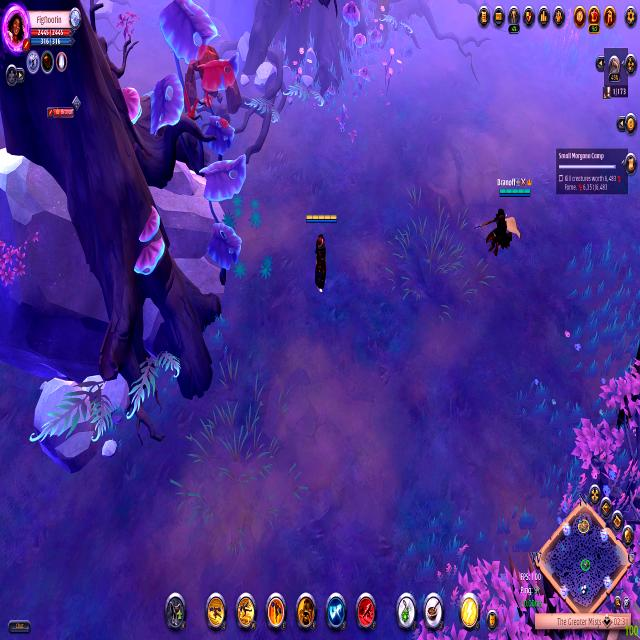red: (472, 175, 536, 261), (301, 206, 342, 304)
tree: (172, 42, 249, 114)
